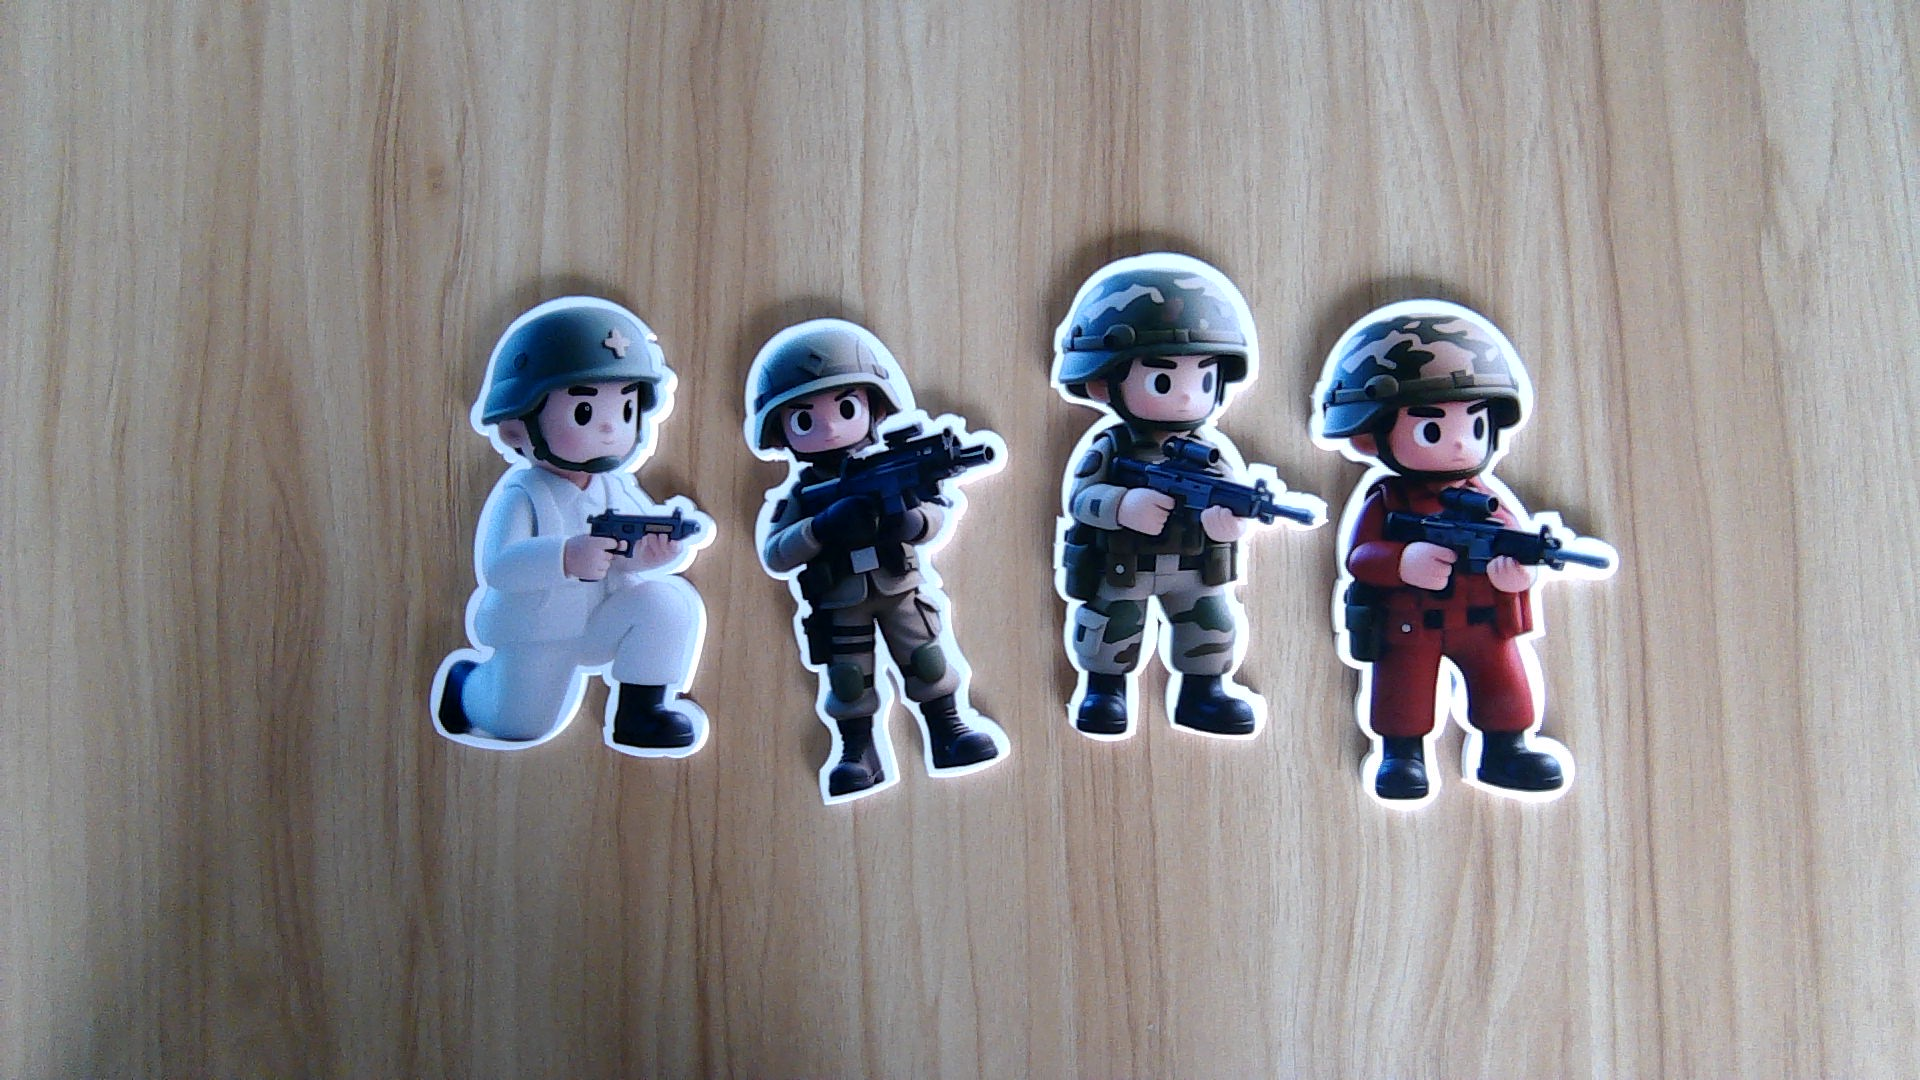人质: (422, 473, 719, 767)
友军: (749, 465, 1019, 804), (1046, 417, 1316, 753)
敌人1: (1325, 465, 1629, 814)
